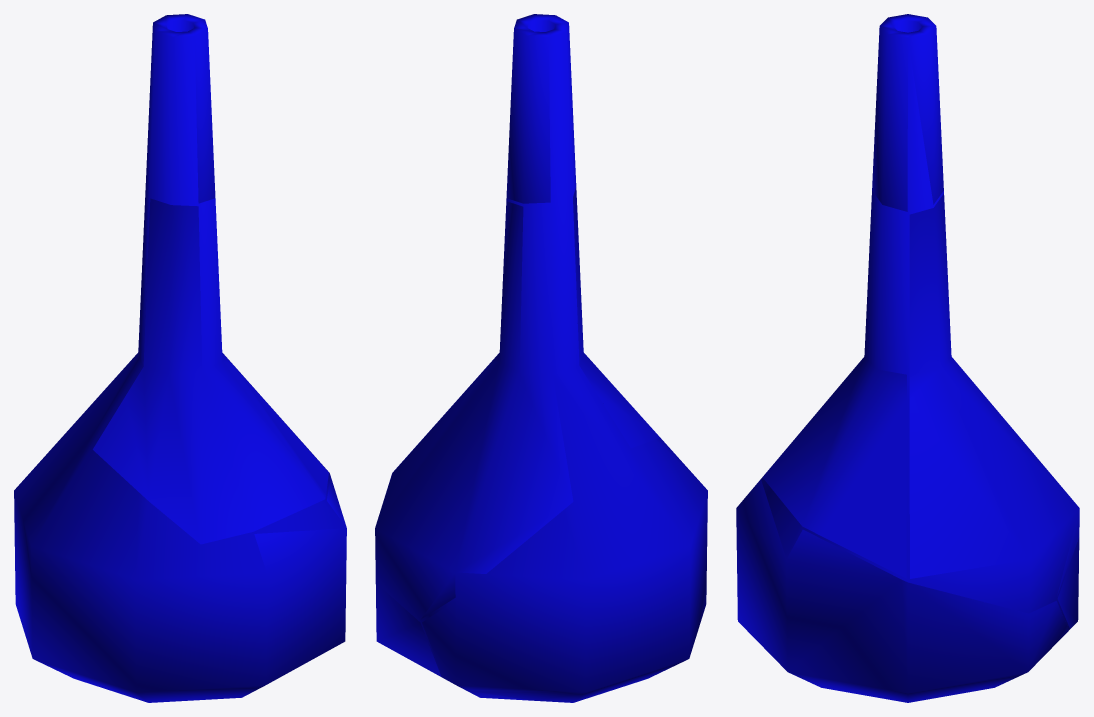
Rendered from Lab_VolumetricFlask.fbx.
3 views of the same model, side by side, from view 1: azimuth 30°, elevation 25°; view 2: azimuth 150°, elevation 25°; view 3: azimuth 270°, elevation 25° (orthographic).
Parts seen in each view (by area): view 1: Plane.664, Plane.664_cell.004, Plane.664_cell.003, Plane.664_cell; view 2: Plane.664, Plane.664_cell.002, Plane.664_cell, Plane.664_cell.004, Plane.664_cell.001, Plane.664_cell.003; view 3: Plane.664_cell.003, Plane.664_cell.002, Plane.664_cell.004, Plane.664, Plane.664_cell, Plane.664_cell.001.
Part boxes in pixels (bbox=[...]): Plane.664: bbox=[14, 20, 346, 702]; Plane.664_cell.004: bbox=[93, 198, 328, 544]; Plane.664_cell.003: bbox=[254, 476, 346, 684]; Plane.664_cell: bbox=[153, 14, 215, 203]; Plane.664: bbox=[375, 20, 707, 702]; Plane.664_cell.002: bbox=[375, 201, 573, 619]; Plane.664_cell: bbox=[506, 14, 568, 203]; Plane.664_cell.004: bbox=[573, 187, 659, 448]; Plane.664_cell.001: bbox=[422, 601, 585, 702]; Plane.664_cell.003: bbox=[375, 583, 441, 676]; Plane.664_cell.003: bbox=[736, 479, 1068, 702]; Plane.664_cell.002: bbox=[909, 194, 1079, 610]; Plane.664_cell.004: bbox=[762, 356, 906, 578]; Plane.664: bbox=[761, 22, 1079, 629]; Plane.664_cell: bbox=[872, 14, 943, 211]; Plane.664_cell.001: bbox=[1057, 537, 1079, 628].
Size of the model in its own units: 0.2491 by 0.5001 by 0.2491.
